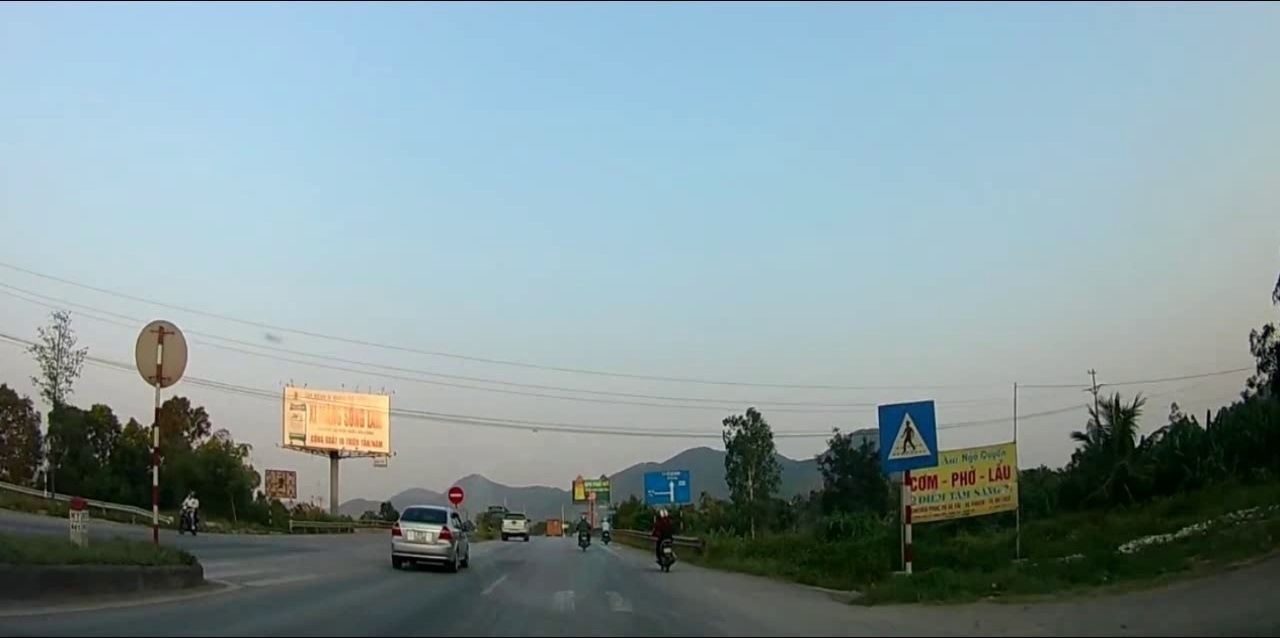Bien khac: (642, 471, 690, 504)
Cam di nguoc chieu: (447, 483, 462, 504)
Nguoi di bo: (875, 398, 938, 473)
